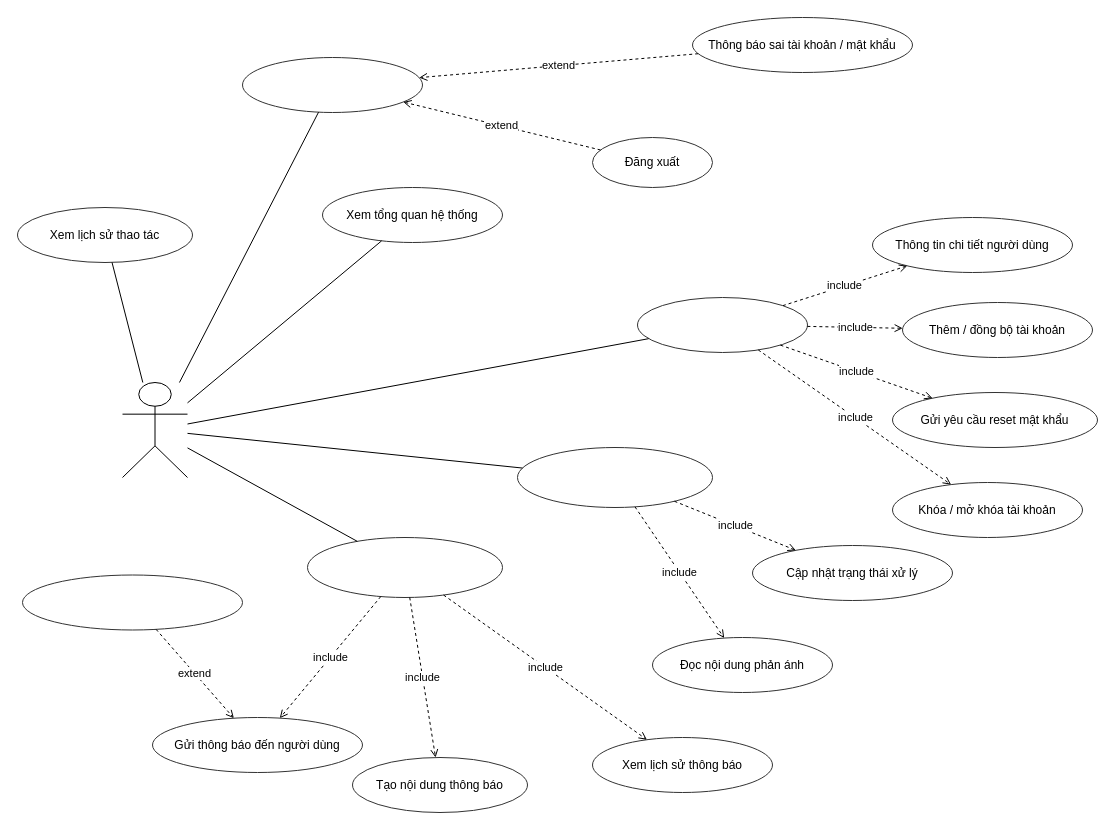
The diagram is 1115 pixels wide and 830 high, and some of its shapes have lost their labels. Here are the shapes that lost their labels. From the top down, the centre of each, then its label:
the point at 332,84: Đăng nhập web quản trị
the point at 722,324: Quản lý người dùng
the point at 155,430: Người quản trị
the point at 614,477: Quản lý phản ánh / báo lỗi
the point at 404,567: Quản lý thông báo hệ thống
the point at 132,602: Đẩy thông báo lên thanh thông báo
